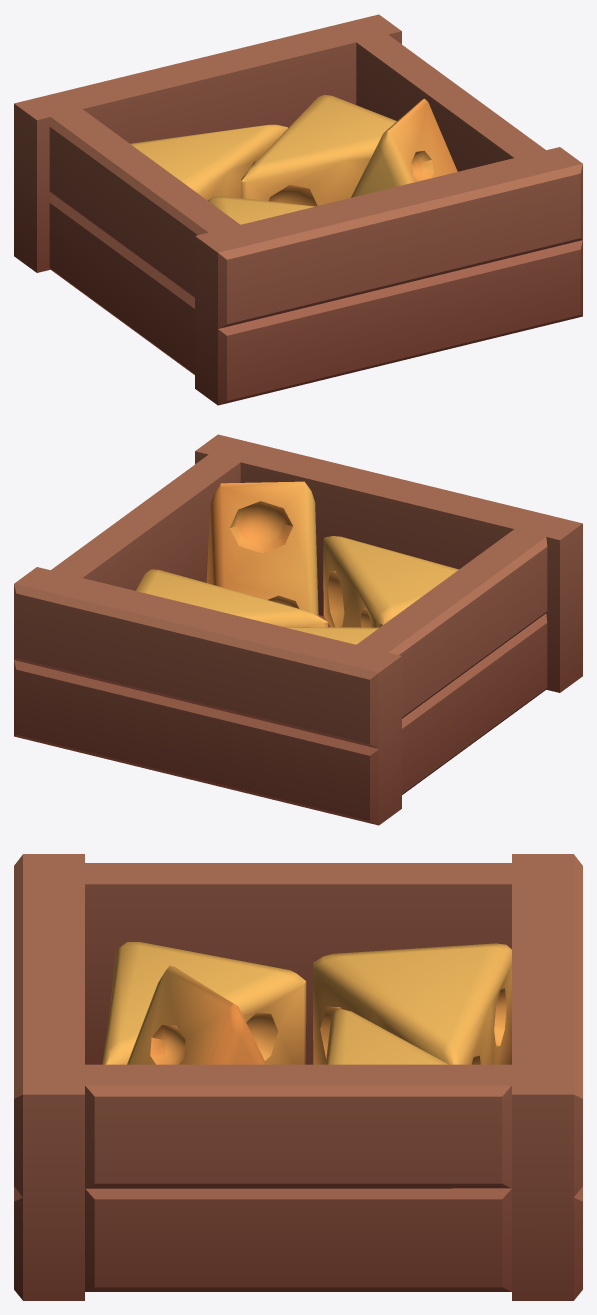
File: crate_cheese.glb
The picture shows the model from 3 angles, top to bottom: view 1: azimuth 30°, elevation 25°; view 2: azimuth 150°, elevation 25°; view 3: azimuth 270°, elevation 25°; orthographic projection. The views are drawn at different scales.
Visible parts, largest first — view 1: crate_cheese; view 2: crate_cheese; view 3: crate_cheese.
Boxes of the visible parts, x1,y1,x2,y2 form: crate_cheese: (14,14,582,405); crate_cheese: (14,434,582,825); crate_cheese: (14,854,582,1300).
Size of the model in its own units: 2 by 0.9459 by 2.
1 material, 1 textured.
